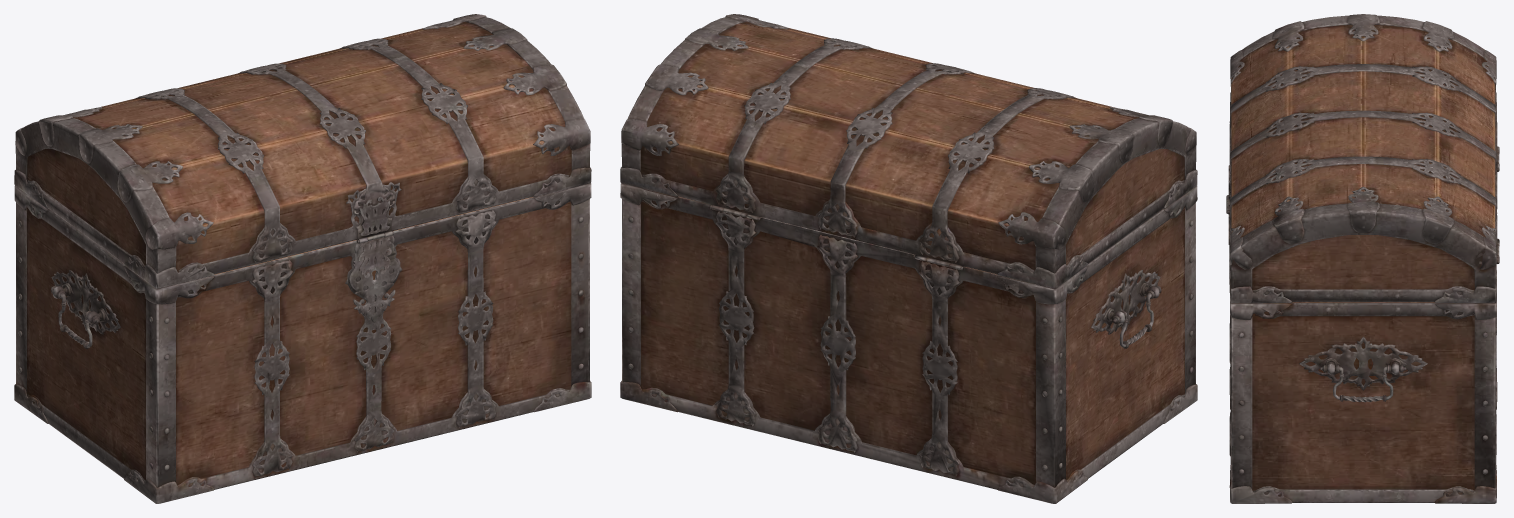
Rendered from treasure_chest.glb.
3 renders of one model, left to right at view 1: azimuth 30°, elevation 25°; view 2: azimuth 150°, elevation 25°; view 3: azimuth 270°, elevation 25°, orthographic. The views are drawn at different scales.
Visible parts, largest first — view 1: treasure_chest_bottom, treasure_chest_lid, treasure_chest_lock, treasure_chest_handle_left; view 2: treasure_chest_bottom, treasure_chest_lid; view 3: treasure_chest_lid, treasure_chest_bottom, treasure_chest_handle_right.
Boxes of the visible parts, x1=… form: treasure_chest_bottom: x1=14, y1=183, x2=591, y2=503; treasure_chest_lid: x1=14, y1=14, x2=591, y2=288; treasure_chest_lock: x1=349, y1=233, x2=399, y2=322; treasure_chest_handle_left: x1=50, y1=285, x2=100, y2=348; treasure_chest_bottom: x1=620, y1=183, x2=1197, y2=503; treasure_chest_lid: x1=620, y1=14, x2=1197, y2=288; treasure_chest_lid: x1=1226, y1=14, x2=1499, y2=303; treasure_chest_bottom: x1=1229, y1=152, x2=1499, y2=503; treasure_chest_handle_right: x1=1320, y1=365, x2=1406, y2=402.
Size of the model in its own units: 0.959 by 0.6182 by 0.5226.
Materials: 1 (1 with a texture image).
